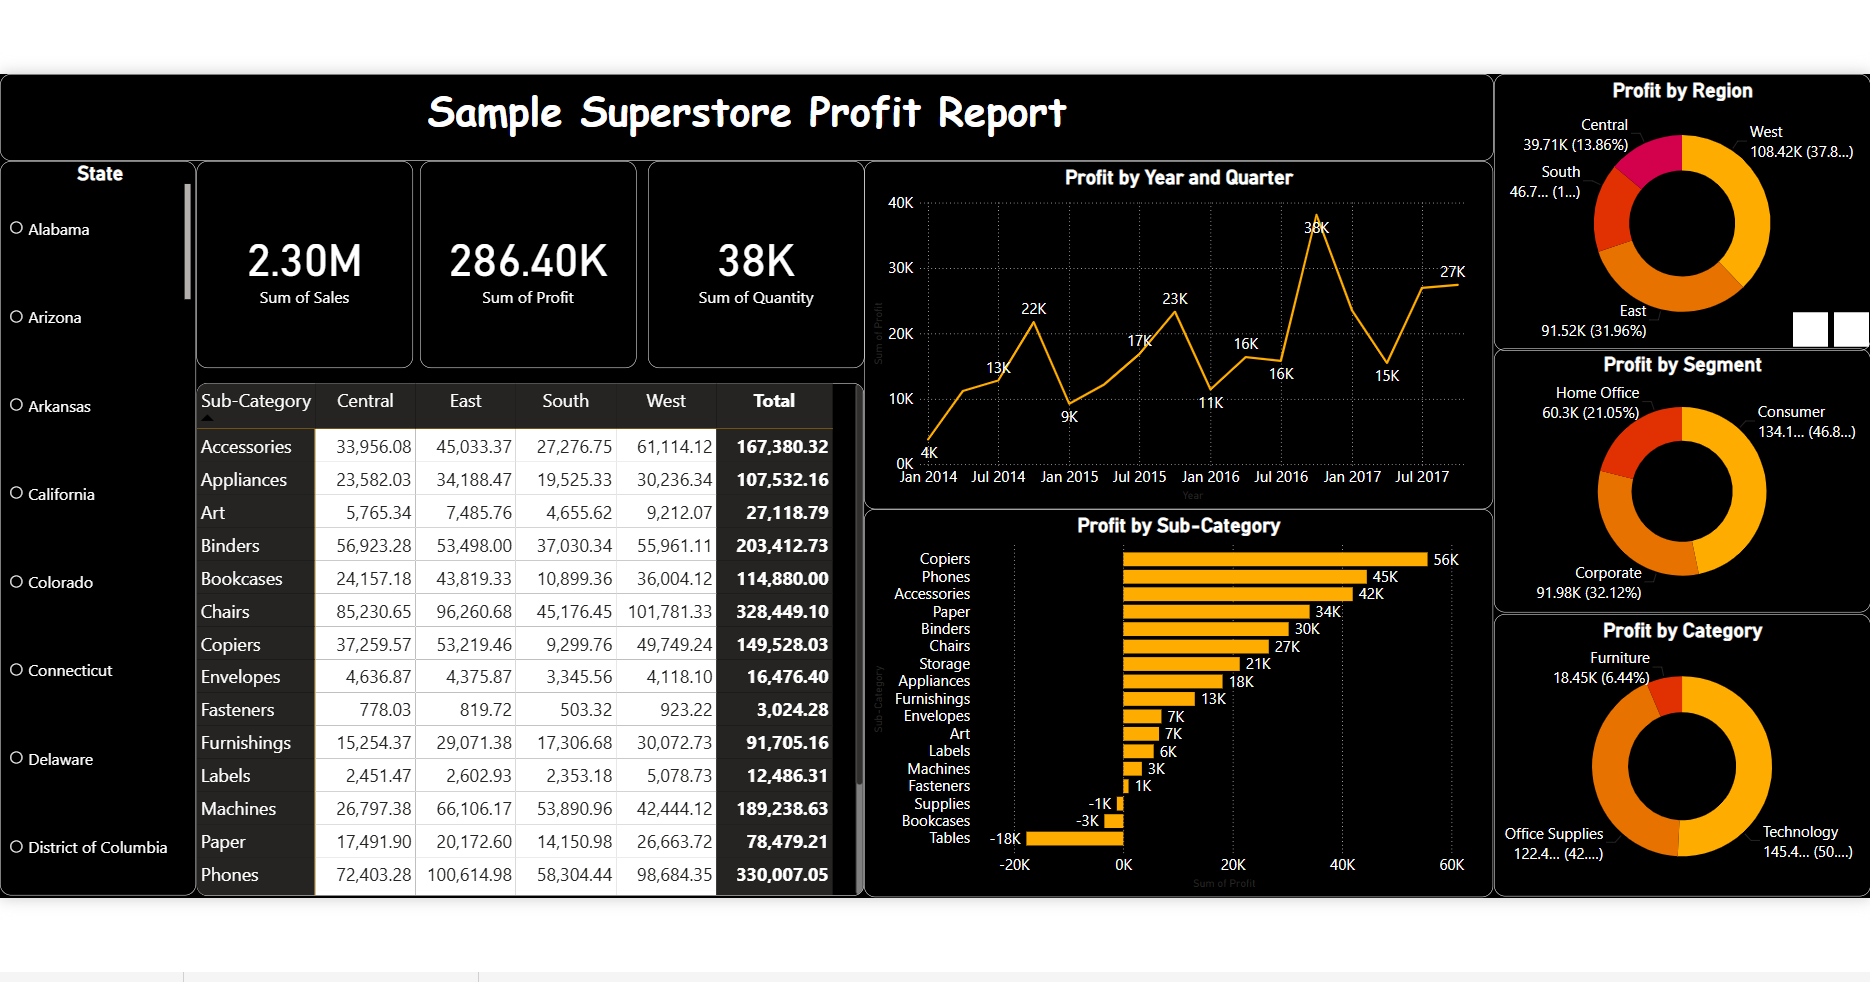

The page's visual inventory and layout, read from the dashboard file:
{"tool":"powerbi","page":{"name":"Page 1","canvas":[2500,1100],"ordinal":0},"visuals":[{"type":"textbox","box":[0,0,1995.8,115.8],"z":0},{"type":"donutChart","title":"Profit by Category","fields":{"Category":["Orders.Category"],"Y":["Sum(Orders.Profit)"]},"box":[1995.8,722.3,503.4,377.5],"z":1000},{"type":"donutChart","title":"Profit by Segment","fields":{"Category":["Orders.Segment"],"Y":["Sum(Orders.Profit)"]},"box":[1995.8,367.5,503.4,352.4],"z":2000},{"type":"donutChart","title":"Profit by Region","fields":{"Y":["Sum(Orders.Profit)"],"Category":["Orders.Region"]},"box":[1995.8,0,503.4,370],"z":3000},{"type":"barChart","title":"Profit by Sub-Category","fields":{"Category":["Orders.Sub-Category"],"Y":["Sum(Orders.Profit)"]},"box":[1155.2,581.4,840.6,518.5],"z":4000},{"type":"lineChart","title":"Profit by Year and Quarter","fields":{"Category":["Orders.Order Date.Variation.Date Hierarchy.Year","Orders.Order Date.Variation.Date Hierarchy.Quarter","Orders.Order Date.Variation.Date Hierarchy.Month","Orders.Order Date.Variation.Date Hierarchy.Day"],"Y":["Sum(Orders.Profit)"]},"box":[1155.2,115.8,840.6,465.6],"z":5000},{"type":"listSlicer","fields":{"Values":["Orders.State"]},"box":[0,115.8,261.7,981.5],"z":6000},{"type":"pivotTable","fields":{"Rows":["Orders.Sub-Category"],"Columns":["Orders.Region"],"Values":["Sum(Orders.Sales)"]},"box":[262.5,413.1,891.8,685.3],"z":7000},{"type":"card","fields":{"Values":["Sum(Orders.Sales)"]},"box":[261.7,115.8,289.4,276.8],"z":8000},{"type":"card","fields":{"Values":["Sum(Orders.Profit)"]},"box":[561.2,115.8,289.4,276.8],"z":9000},{"type":"card","fields":{"Values":["Sum(Orders.Quantity)"]},"box":[865.8,115.8,289.4,276.8],"z":10000}]}

Visuals, with their boxes on the page's 2500x1100 design canvas (x1, y1, x2, y2). These are canvas units, not pixel positions in the 1870x982 screenshot, which may show the page scaled, cropped or inside an application window:
textbox: {"x1": 0, "y1": 0, "x2": 1996, "y2": 116}
"Profit by Category" donutChart: {"x1": 1996, "y1": 722, "x2": 2499, "y2": 1100}
"Profit by Segment" donutChart: {"x1": 1996, "y1": 368, "x2": 2499, "y2": 720}
"Profit by Region" donutChart: {"x1": 1996, "y1": 0, "x2": 2499, "y2": 370}
"Profit by Sub-Category" barChart: {"x1": 1155, "y1": 581, "x2": 1996, "y2": 1100}
"Profit by Year and Quarter" lineChart: {"x1": 1155, "y1": 116, "x2": 1996, "y2": 581}
listSlicer - Orders.State: {"x1": 0, "y1": 116, "x2": 262, "y2": 1097}
pivotTable - Orders.Sub-Category x Orders.Region: {"x1": 262, "y1": 413, "x2": 1154, "y2": 1098}
card - Sum(Orders.Sales): {"x1": 262, "y1": 116, "x2": 551, "y2": 393}
card - Sum(Orders.Profit): {"x1": 561, "y1": 116, "x2": 851, "y2": 393}
card - Sum(Orders.Quantity): {"x1": 866, "y1": 116, "x2": 1155, "y2": 393}
